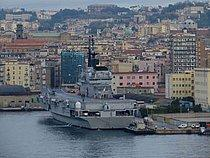MIL_Ship: (35, 55, 137, 132)
